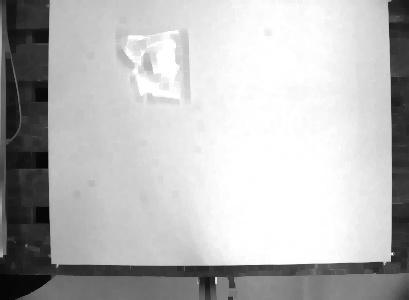t3: (116, 23, 189, 105)
